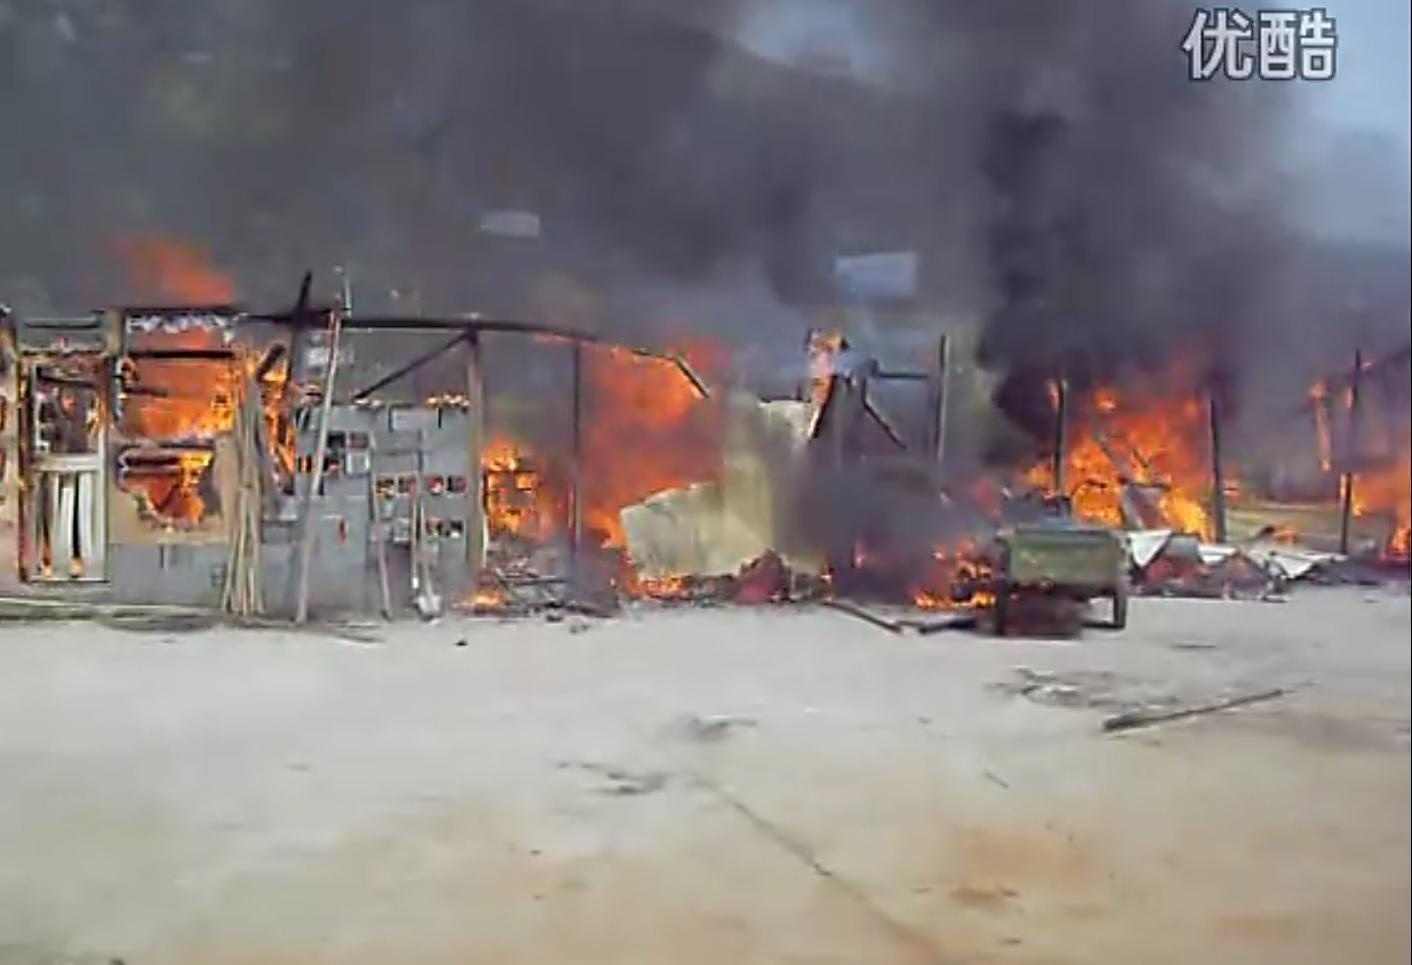fire: (469, 331, 719, 612), (958, 370, 1230, 573), (131, 326, 301, 513), (1312, 356, 1411, 556)
